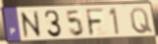1: (109, 7, 121, 37)
3: (44, 10, 63, 39)
5: (65, 9, 85, 38)
F: (85, 7, 106, 38)
N: (19, 10, 44, 41)
Q: (128, 7, 154, 35)
